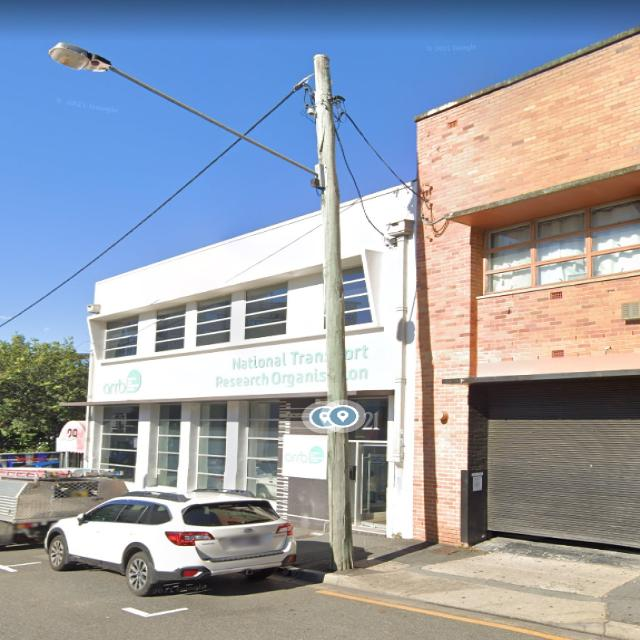streetlight: (43, 41, 322, 186)
timber-pole: (310, 50, 356, 572)
top mount pole: (313, 52, 356, 571)
